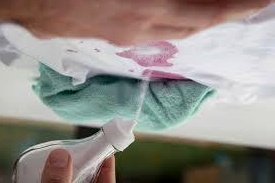wine: (148, 71, 182, 91), (139, 57, 173, 71), (162, 42, 174, 53), (117, 50, 129, 60)
